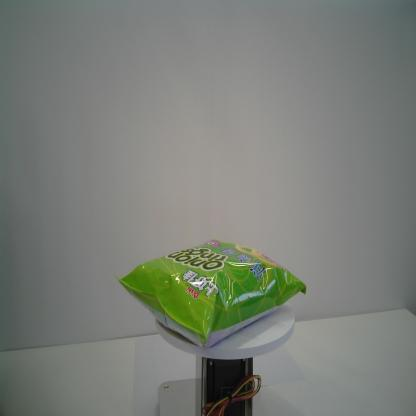Puffed Food: (116, 237, 307, 352)
